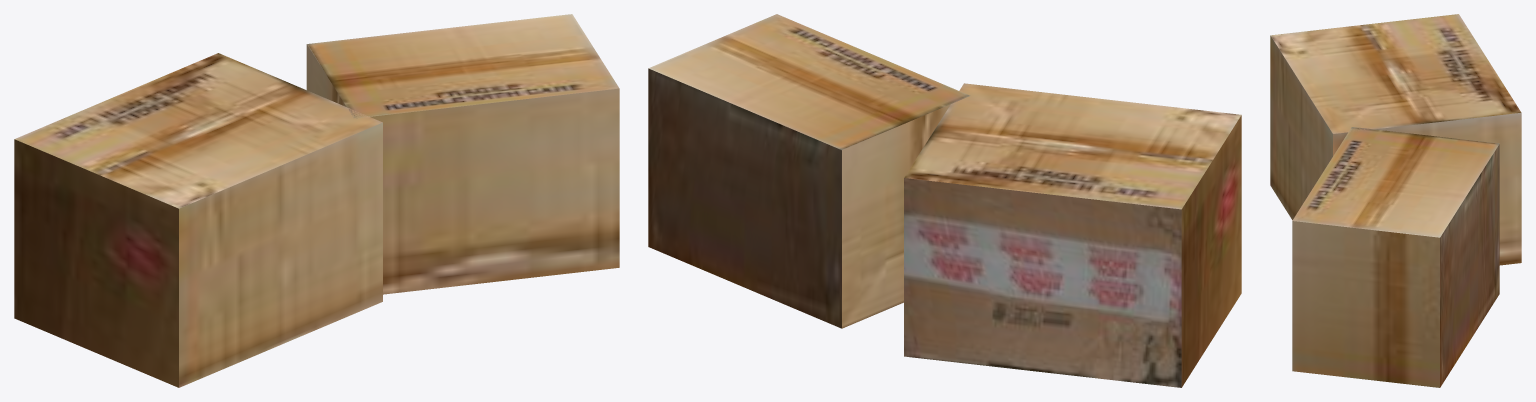
The model's file is boxes.FBX.
3 views of the same model, side by side, from view 1: azimuth 30°, elevation 25°; view 2: azimuth 150°, elevation 25°; view 3: azimuth 270°, elevation 25° (orthographic). The views are drawn at different scales.
Parts seen in each view (by area): view 1: Box003; view 2: Box003; view 3: Box003.
Part boxes in pixels (left/top/right/bottom): Box003: left=14, top=14, right=619, bottom=387; Box003: left=648, top=14, right=1241, bottom=387; Box003: left=1270, top=14, right=1521, bottom=387.
Bounding box in the file's own units: 104 × 32.51 × 49.23.
1 material, 1 textured.
